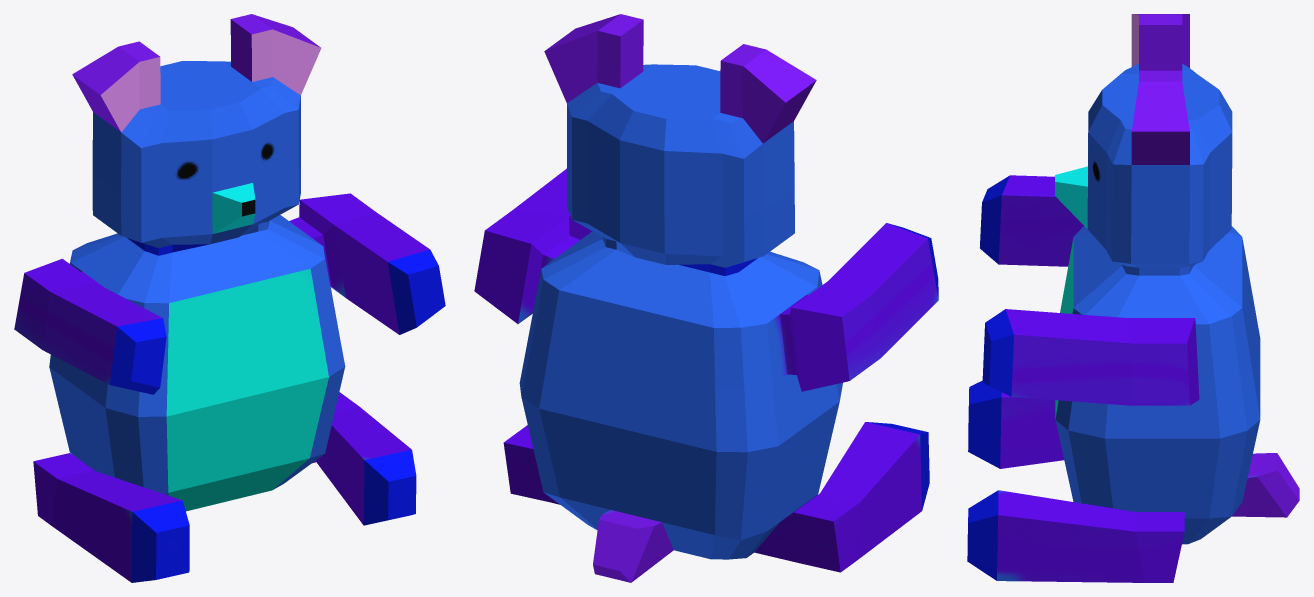
Rendered from teddy.fbx.
The picture shows the model from 3 angles, left to right: view 1: azimuth 30°, elevation 25°; view 2: azimuth 150°, elevation 25°; view 3: azimuth 270°, elevation 25°; orthographic projection. The views are drawn at different scales.
Parts seen in each view (by area): view 1: Cube; view 2: Cube; view 3: Cube.
Boxes of the visible parts, x1=… form: Cube: x1=14, y1=14, x2=445, y2=582; Cube: x1=474, y1=14, x2=938, y2=582; Cube: x1=967, y1=14, x2=1299, y2=582.
Size of the model in its own units: 332 by 421 by 271.
1 material, 1 textured.
